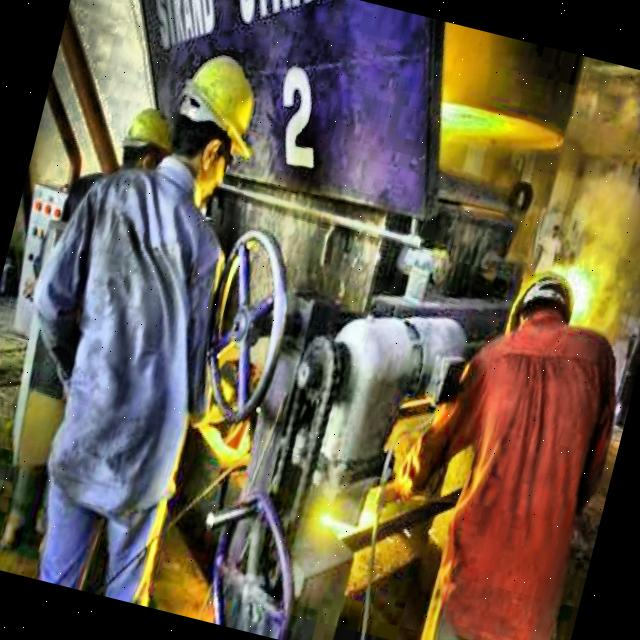helmet: (156, 38, 272, 208), (494, 252, 602, 376), (114, 103, 178, 181)
